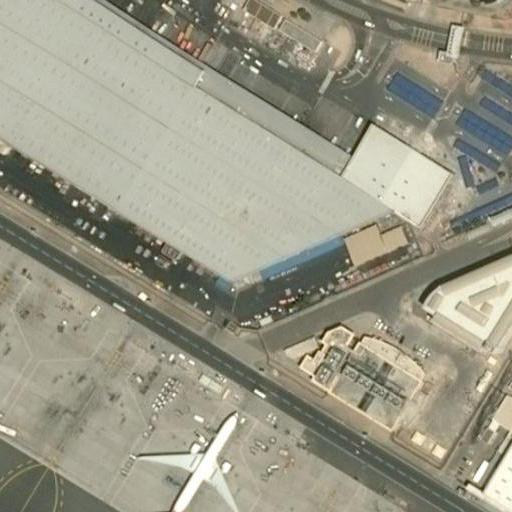Aircraft: (134, 404, 247, 512)
